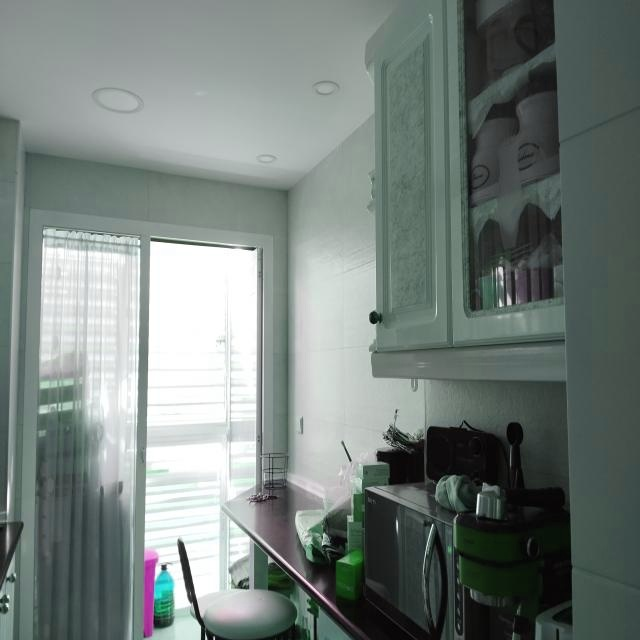cabinet: (365, 0, 567, 383)
chair: (178, 538, 301, 640)
countertop: (222, 483, 415, 640)
microwave: (362, 482, 489, 640)
